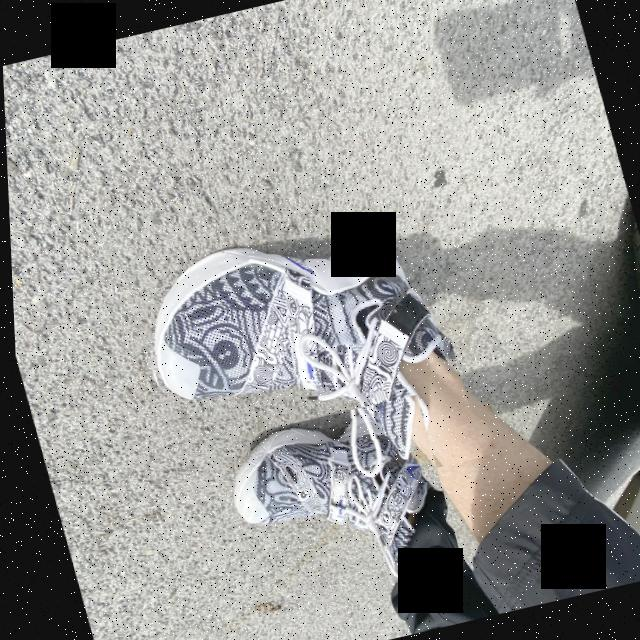shoe: (113, 198, 481, 525), (206, 394, 462, 620)
